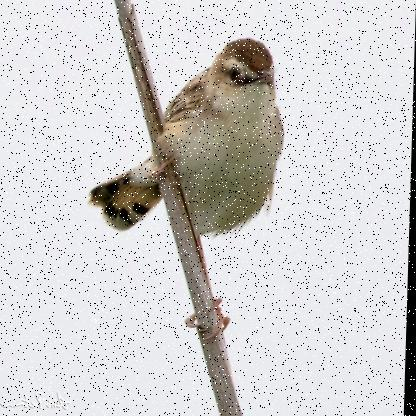Burung: (90, 38, 288, 238)
